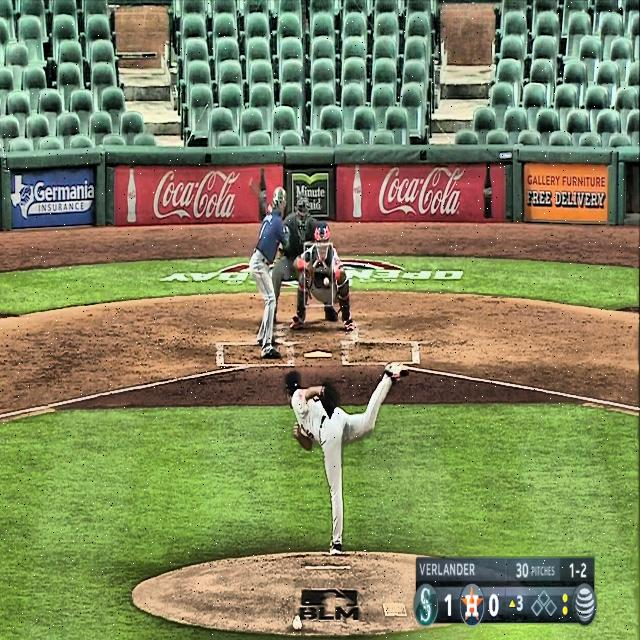baseball: (324, 278, 329, 286)
